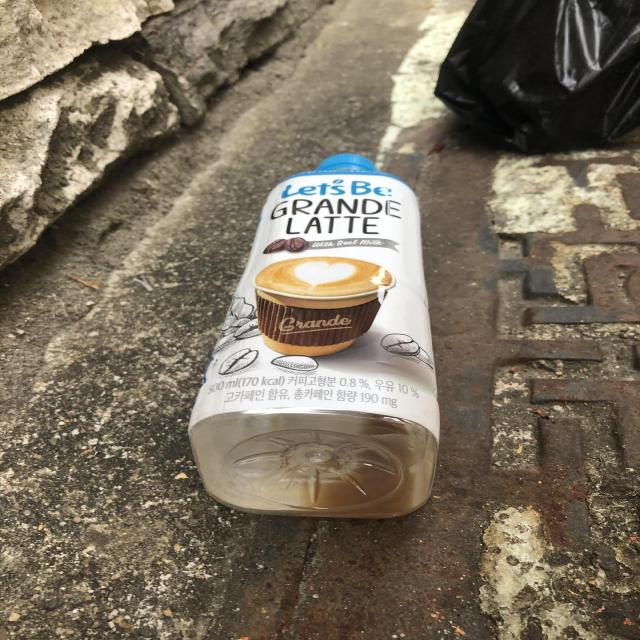plastic: (188, 153, 440, 519)
